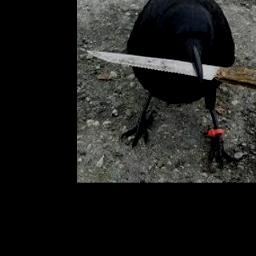Crow: (119, 0, 239, 167)
